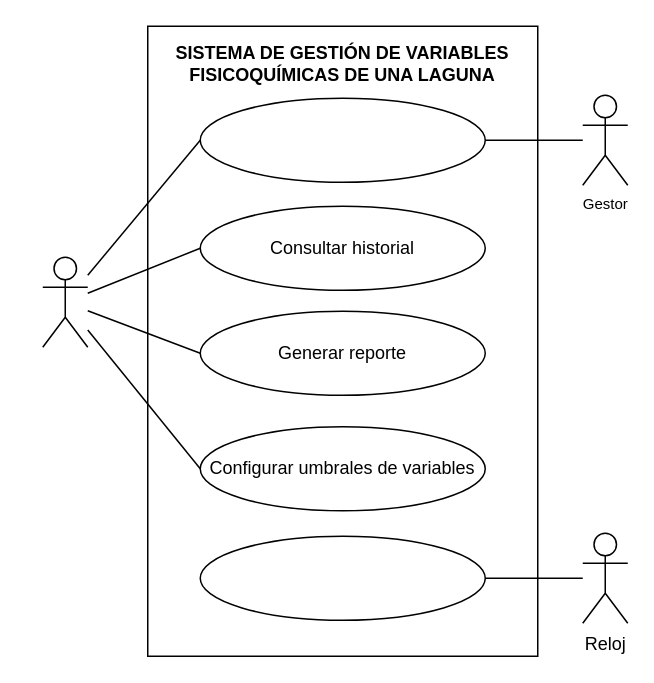
This 654x683 diagram has some shape labels left out. Here are the shapes that lost their labels. From the top down, the centre of each, then its label:
point (342, 139): Visualizar estado de la laguna
point (64, 301): Técnico ambiental
point (342, 577): Procesar mediciones
